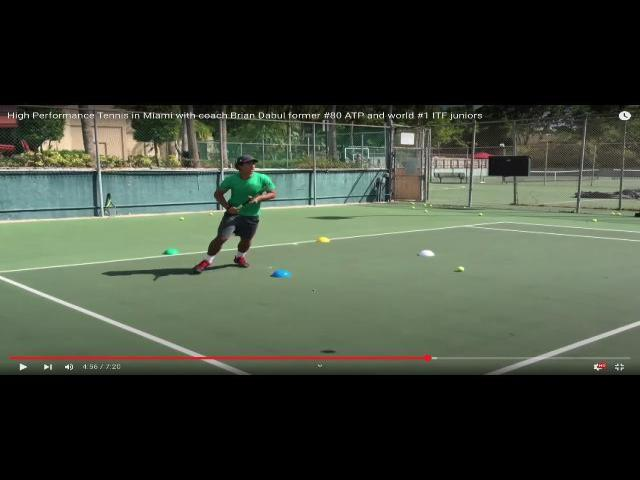tennis-ball: (457, 266, 464, 272), (180, 216, 184, 220), (610, 213, 614, 216), (592, 219, 596, 222), (429, 205, 432, 207), (412, 207, 415, 209), (425, 210, 428, 212), (210, 213, 213, 215), (618, 213, 621, 215), (479, 214, 482, 216), (412, 203, 414, 205), (424, 204, 426, 206)
